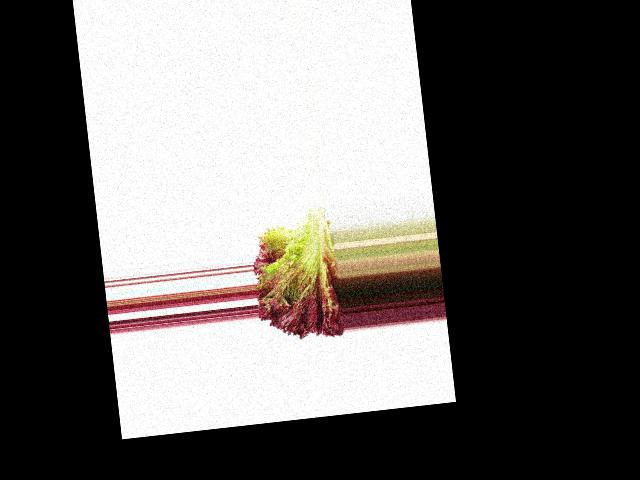lettuce: (248, 207, 345, 326)
